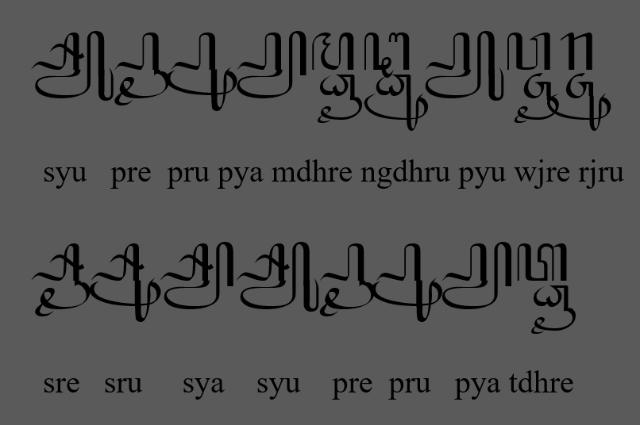_dhre: (316, 74, 364, 126), (530, 284, 576, 335)
_dhru: (364, 74, 428, 132)
_jre: (513, 72, 559, 124)
_jru: (547, 72, 611, 132)
_pre: (320, 242, 374, 318), (115, 31, 168, 107)
_pru: (167, 31, 237, 112), (373, 243, 442, 323)
_py: (236, 29, 308, 99), (442, 241, 512, 311)
_pyu: (425, 30, 505, 102)
_sre: (31, 243, 91, 317)
_sru: (88, 244, 162, 322)
_sy: (160, 242, 234, 310)
_syu: (30, 30, 114, 102), (235, 243, 319, 314)
m: (312, 32, 354, 72)
r: (559, 31, 595, 71)
t: (516, 243, 568, 283)
th: (364, 32, 411, 78)
w: (506, 31, 552, 70)
